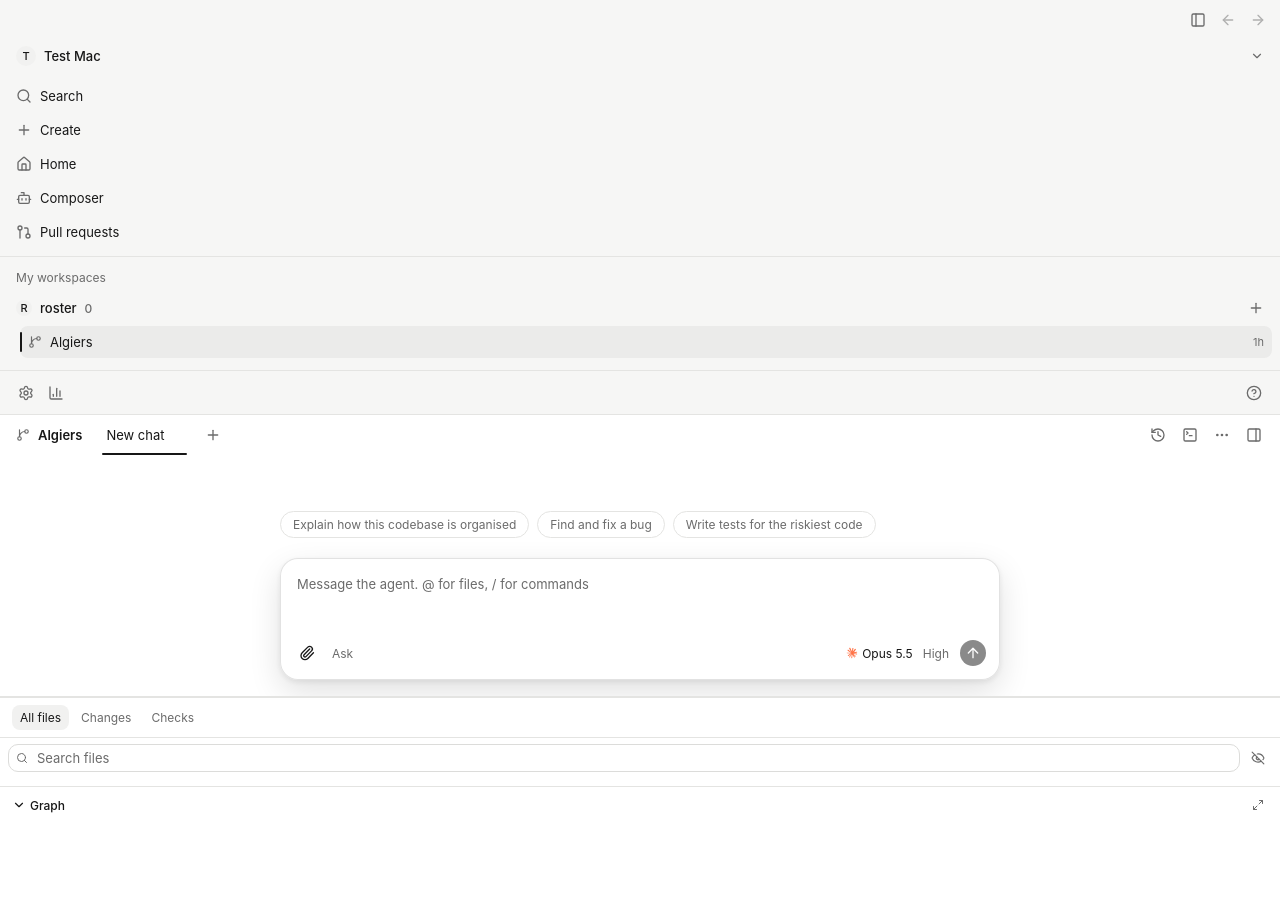
Test: Workspace page › cannot delete a live workspace
This screenshot has width=1280, height=900.
Click the button named "Actions for Algiers". click: point(1222, 435)
box: x1=1208 y1=421 x2=1236 y2=449
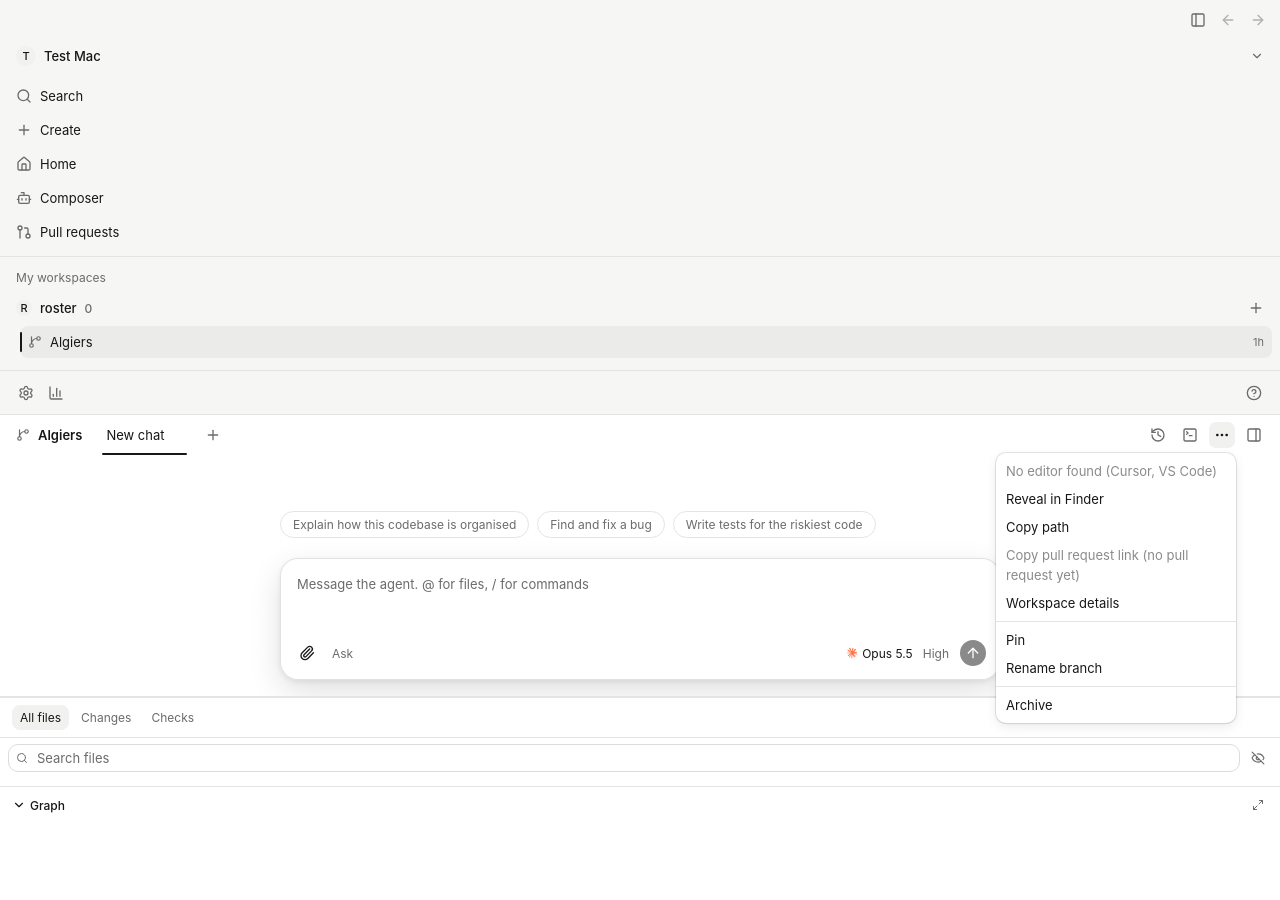
Check: the menu item "Archive" is shown, box x1=1006 y1=697 x2=1052 y2=713
